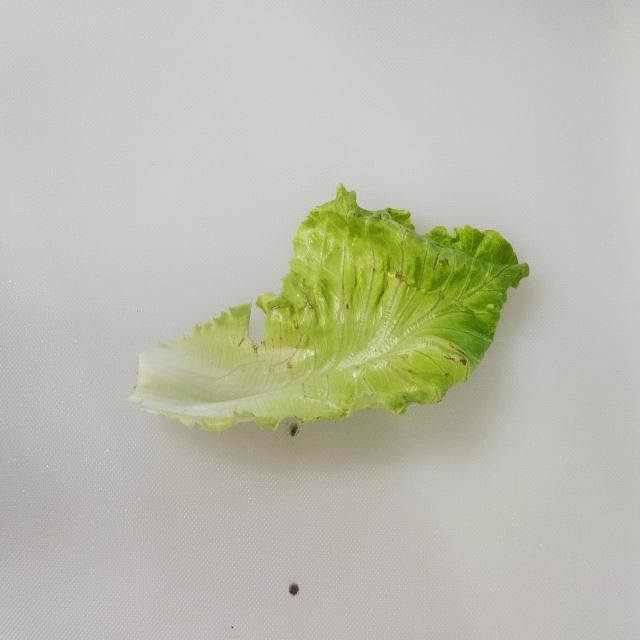lettuce: (126, 182, 530, 436)
